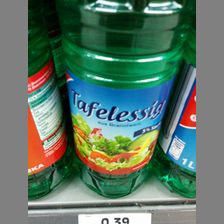vinegar: (58, 1, 188, 200)
